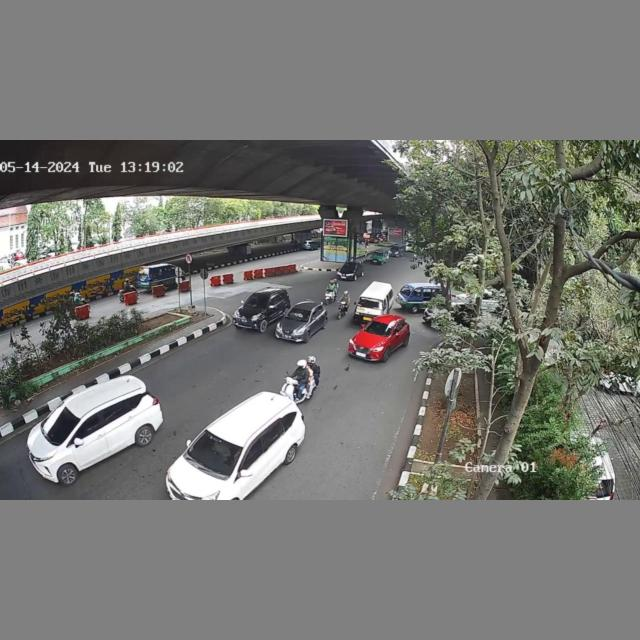windshield: (187, 430, 243, 476), (39, 402, 84, 444), (364, 319, 396, 337), (244, 292, 270, 307), (287, 309, 311, 320)
